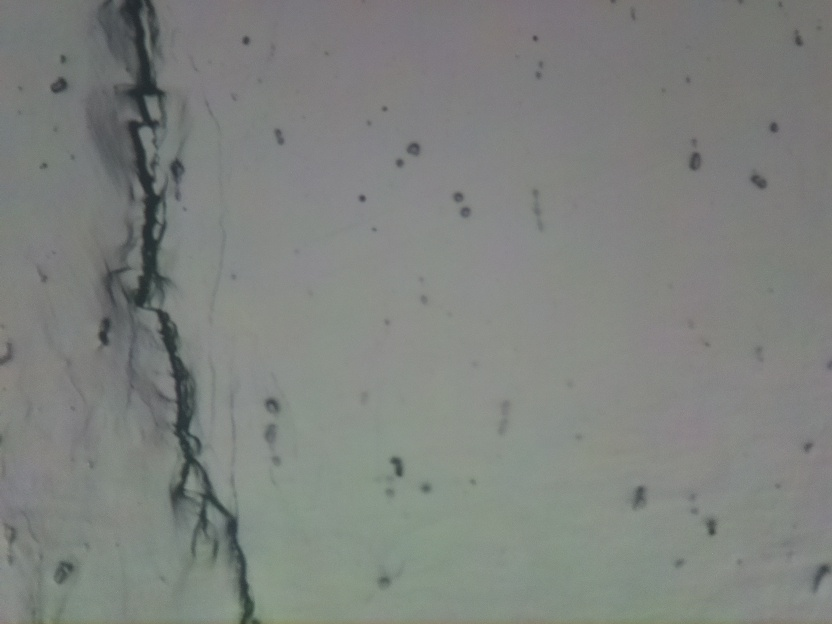crack: (117, 0, 260, 624)
